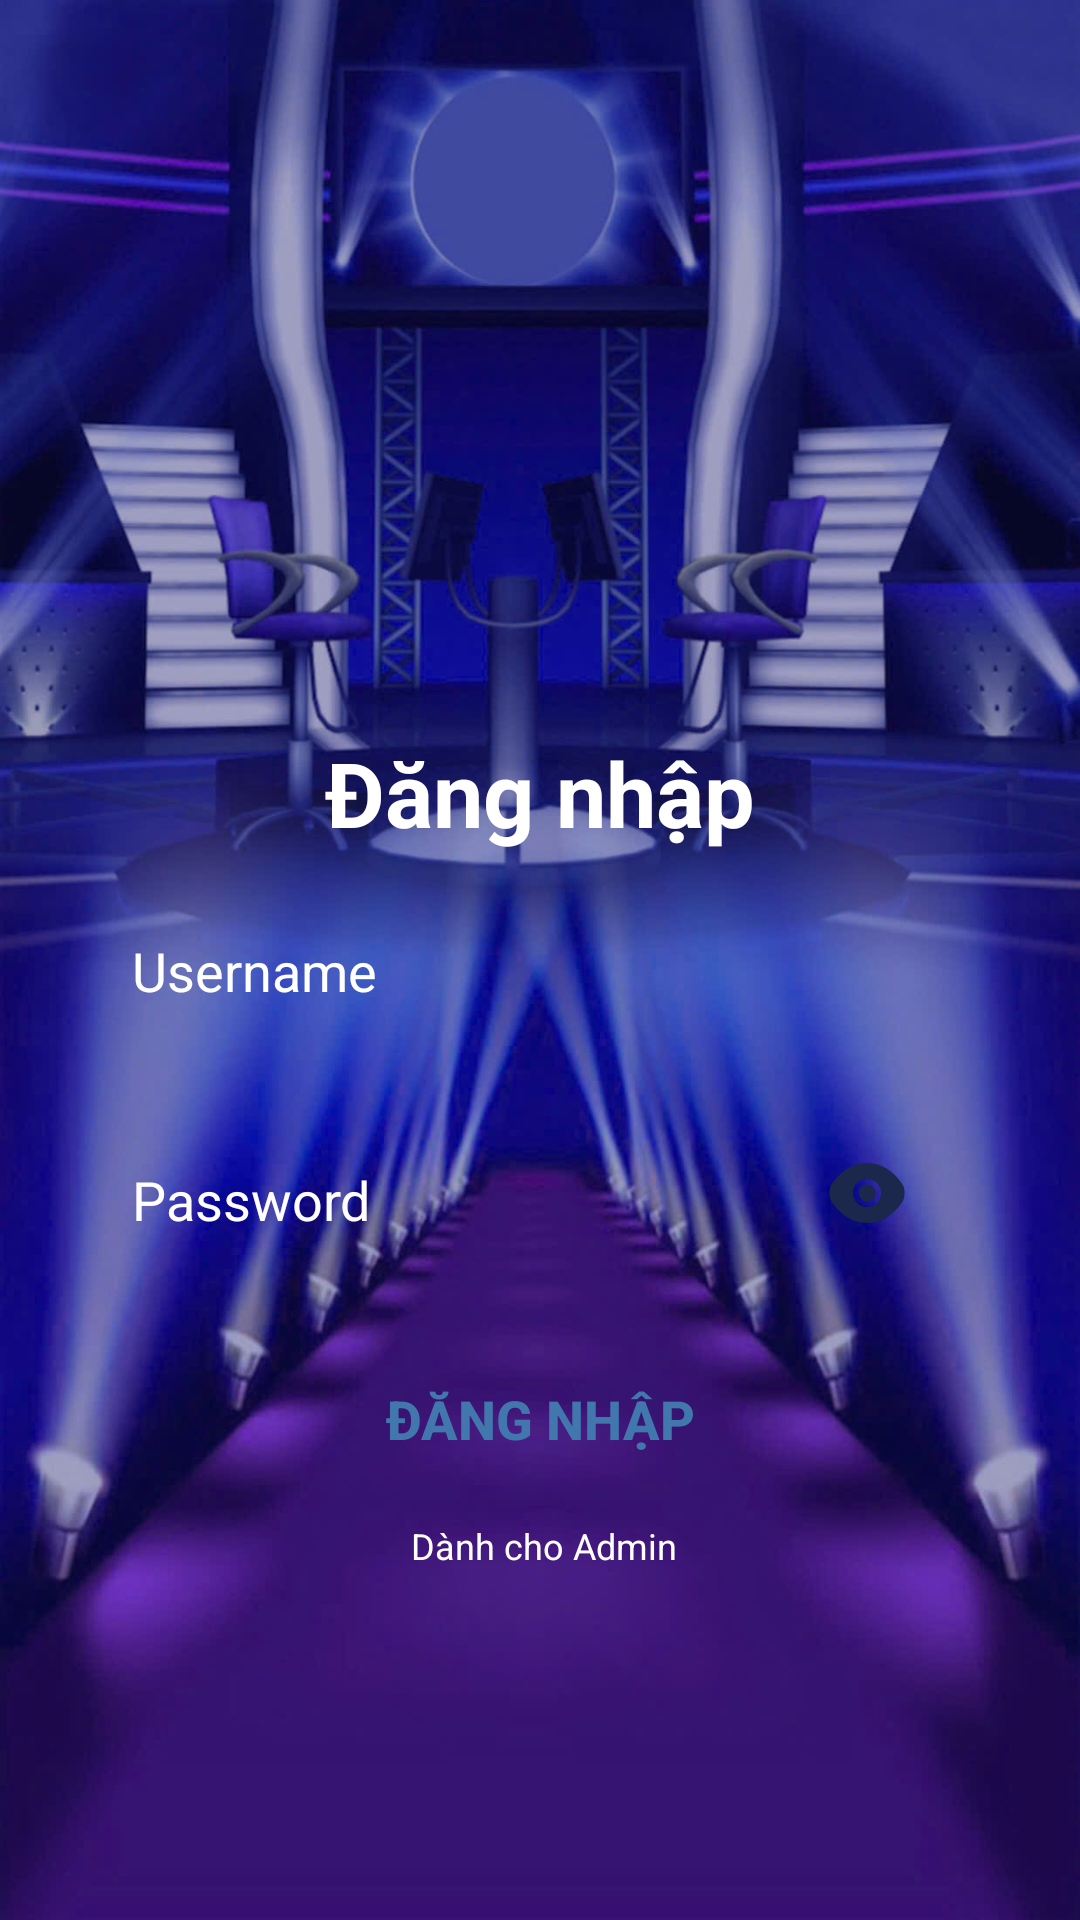

Named icons in this screenshot (1080w x 1920h) and their centers, point (x, y):
eye: point (867, 1193)
